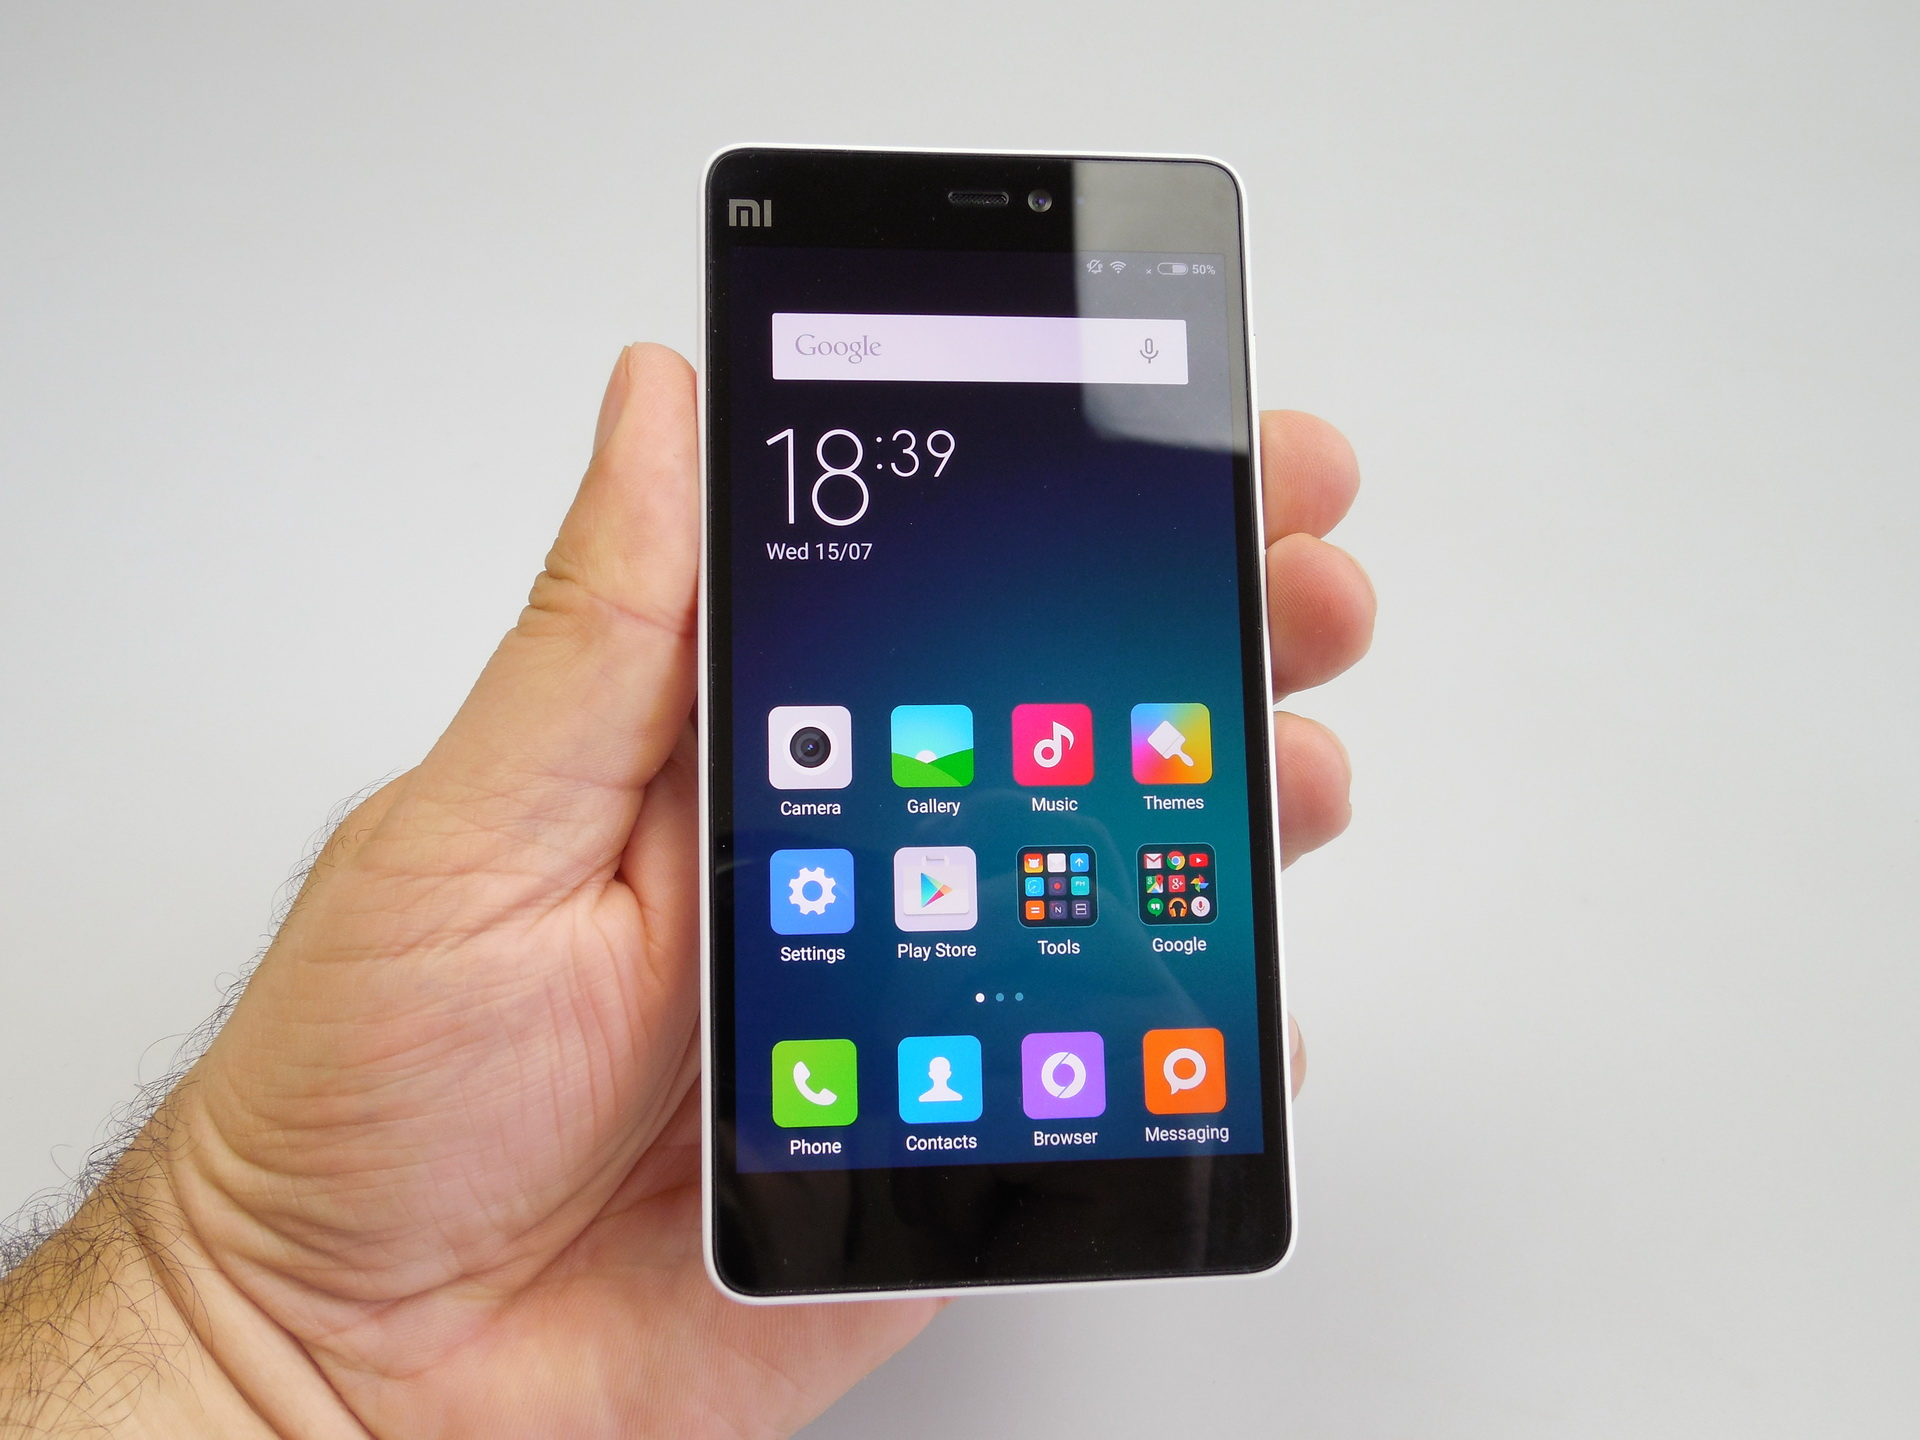smartphone: (695, 141, 1297, 1305)
